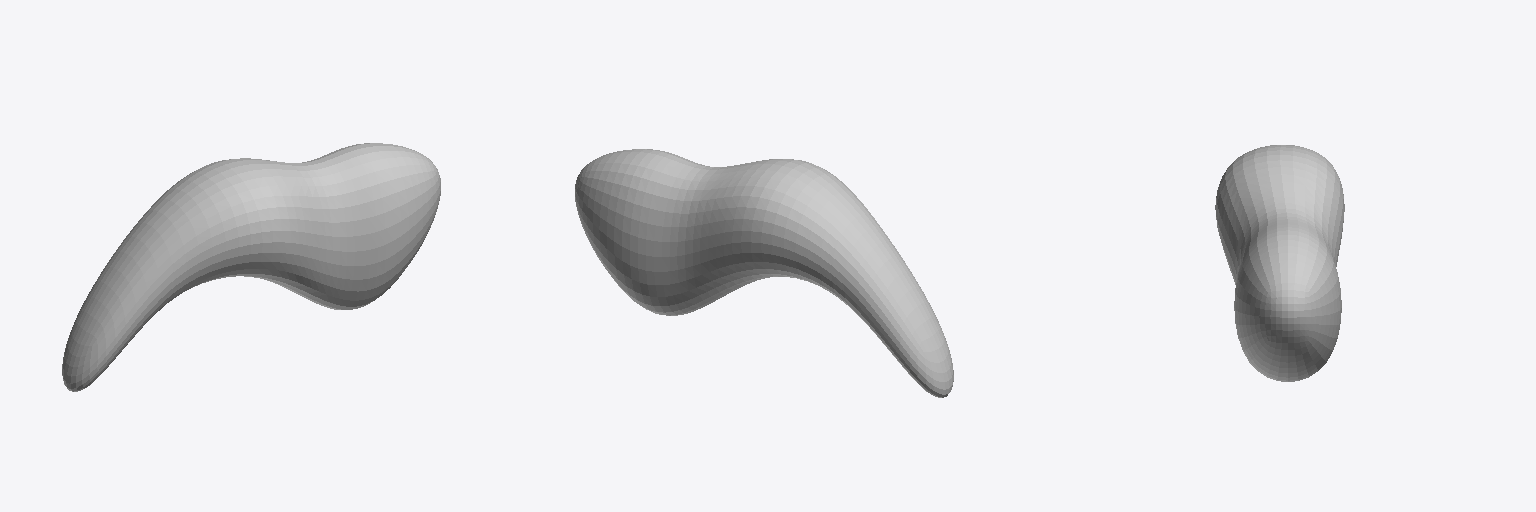
The model's file is SteinArciDings.obj.
3 renders of one model, left to right at view 1: azimuth 30°, elevation 25°; view 2: azimuth 150°, elevation 25°; view 3: azimuth 270°, elevation 25°, orthographic.
Parts seen in each view (by area): view 1: Cube_Cube.001; view 2: Cube_Cube.001; view 3: Cube_Cube.001.
Boxes of the visible parts, <box> form: Cube_Cube.001: <box>62,143,440,391</box>; Cube_Cube.001: <box>575,149,953,397</box>; Cube_Cube.001: <box>1215,145,1344,381</box>.
Bounding box in the file's own units: 10.43 × 5.04 × 3.15.